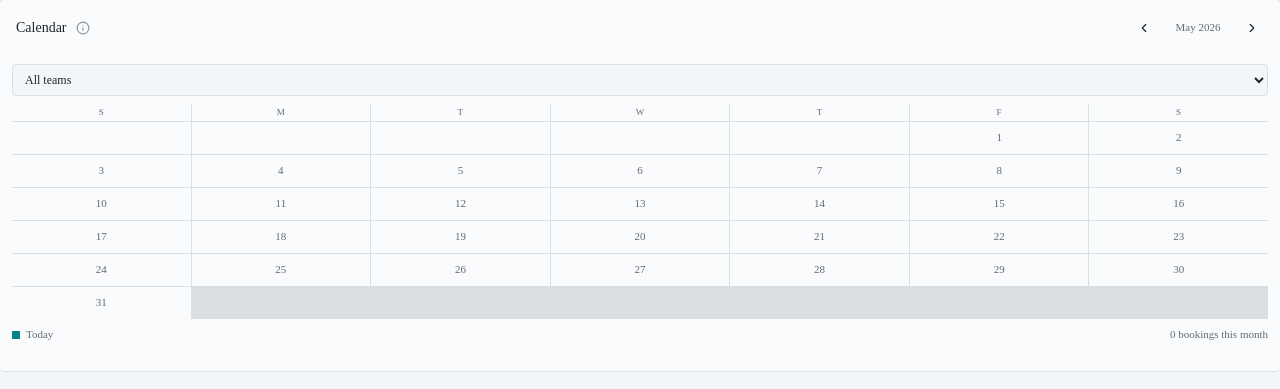
MiniBookingCalendar › disables the prev/next nav buttons and team select while a month fetch is in flight
Click the button named "next month" at (1252, 28), box [1240, 16, 1264, 40]
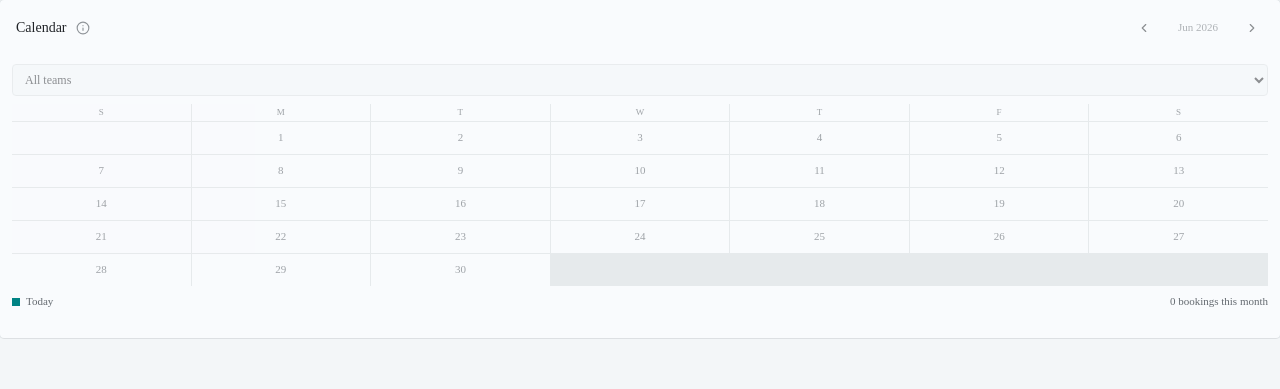
expect the button named "next month" is disabled: met, box [1240, 16, 1264, 40]
expect the button named "previous month" is disabled: met, box [1132, 16, 1156, 40]
expect the dropdown named "filter by team" is disabled: met, box [12, 64, 1268, 96]
